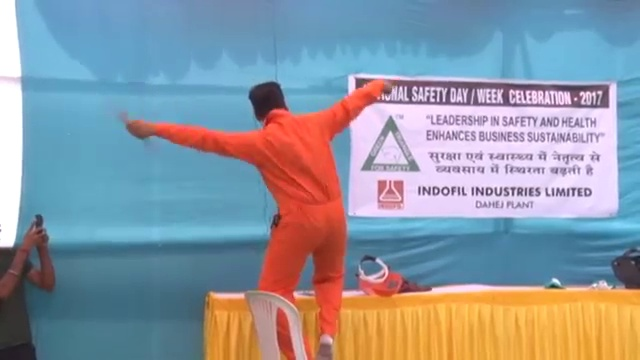helmet_off: (246, 81, 290, 123)
person: (120, 77, 392, 360), (1, 211, 51, 360)
